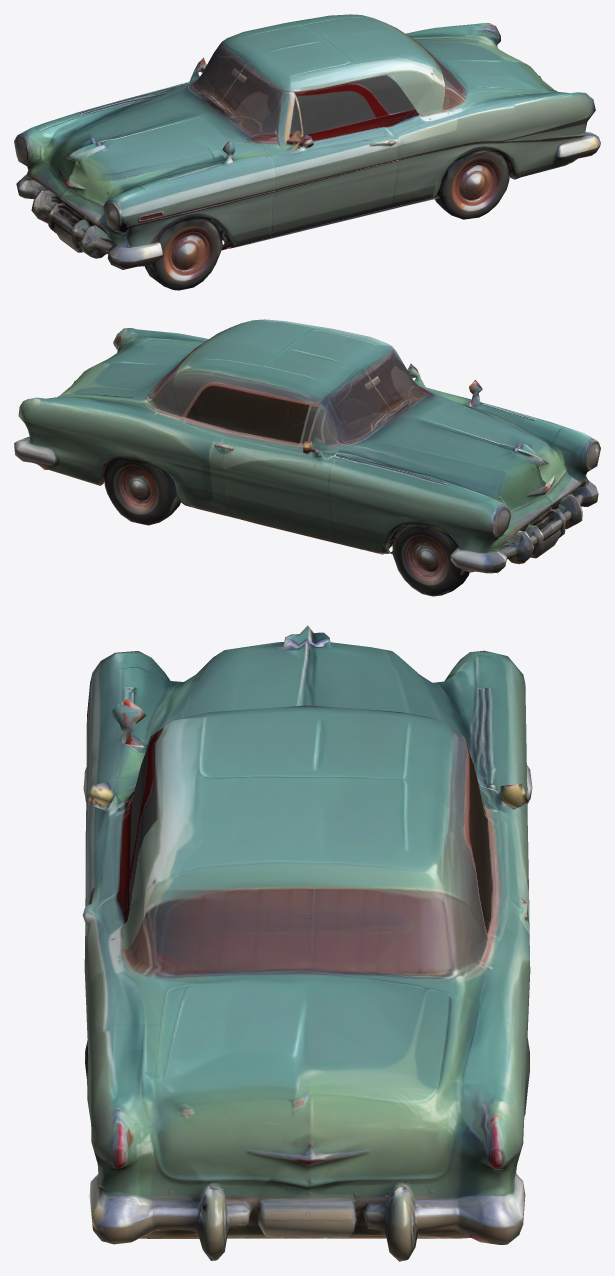
The model's file is car_bottom.glb.
3 views of the same model, one above another, from view 1: azimuth 30°, elevation 25°; view 2: azimuth 150°, elevation 25°; view 3: azimuth 270°, elevation 25° (orthographic). The views are drawn at different scales.
Visible parts, largest first — view 1: Mesh_0; view 2: Mesh_0; view 3: Mesh_0.
Boxes of the visible parts, <box> form: Mesh_0: <box>14,14,600,290</box>; Mesh_0: <box>14,319,600,596</box>; Mesh_0: <box>82,625,532,1261</box>.
Bounding box in the file's own units: 6.21 × 2 × 2.45.
1 material, 1 textured.
